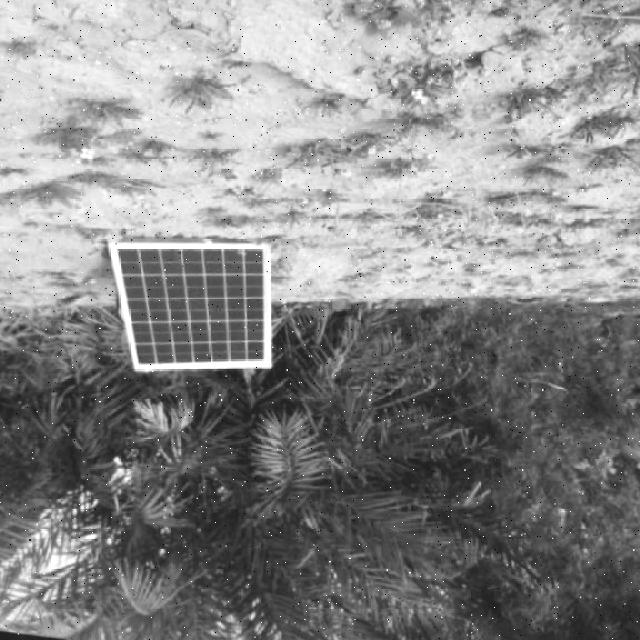Normal Solar Panel: (95, 224, 277, 385)
